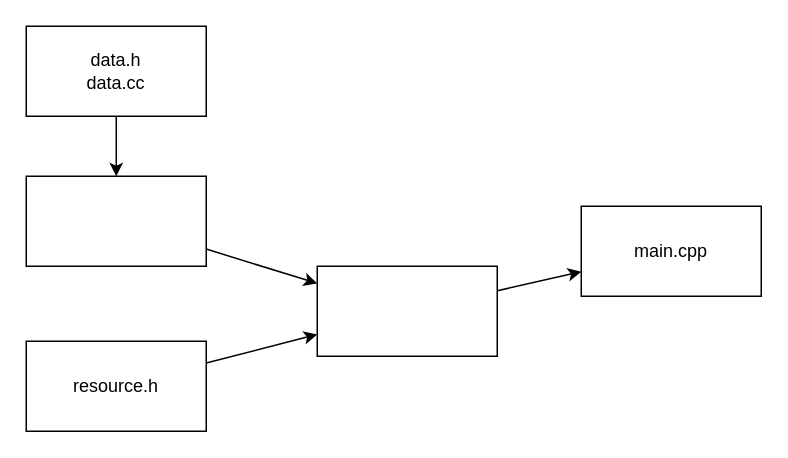
Image size: 788x458. Some labels were removed from this diagram. The centre of each missing label's shape, as x and y in pixels:
class Submission; class SubmitData; class TeamData;: the point at 115,220
ICPC.h ICPC.cc: the point at 406,310
